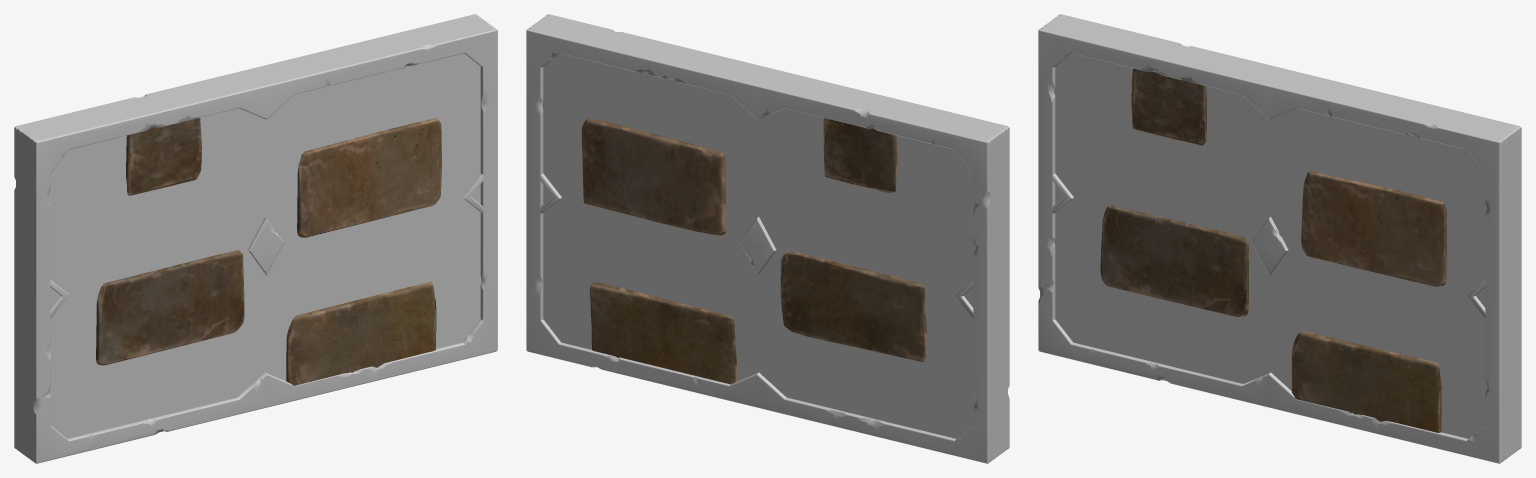
The picture shows the model from 3 angles, left to right: view 1: azimuth 30°, elevation 25°; view 2: azimuth 150°, elevation 25°; view 3: azimuth 330°, elevation 25°; orthographic projection.
Visible parts, largest first — view 1: SM_AgilityWall_4x6_LOD0; view 2: SM_AgilityWall_4x6_LOD0; view 3: SM_AgilityWall_4x6_LOD0.
Boxes of the visible parts, x1,y1,x2,y2 form: SM_AgilityWall_4x6_LOD0: (14,14,497,463); SM_AgilityWall_4x6_LOD0: (526,14,1009,463); SM_AgilityWall_4x6_LOD0: (1038,14,1521,463).
Size of the model in its own units: 6 by 4 by 0.5384.
